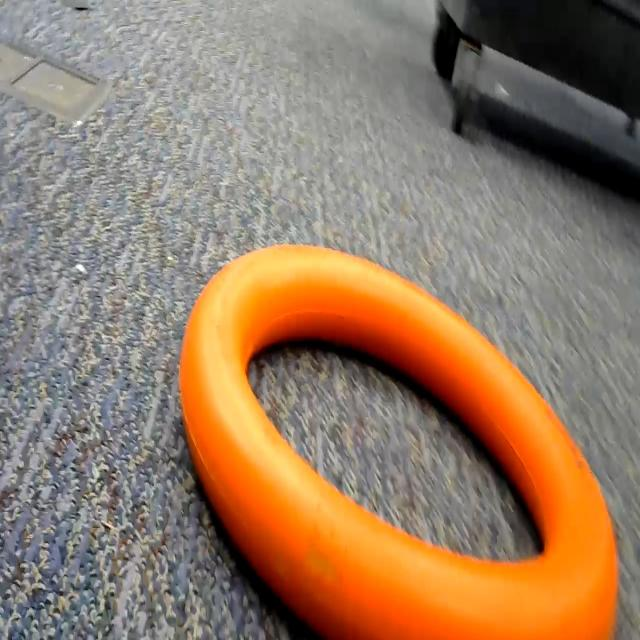note: (172, 221, 636, 640)
